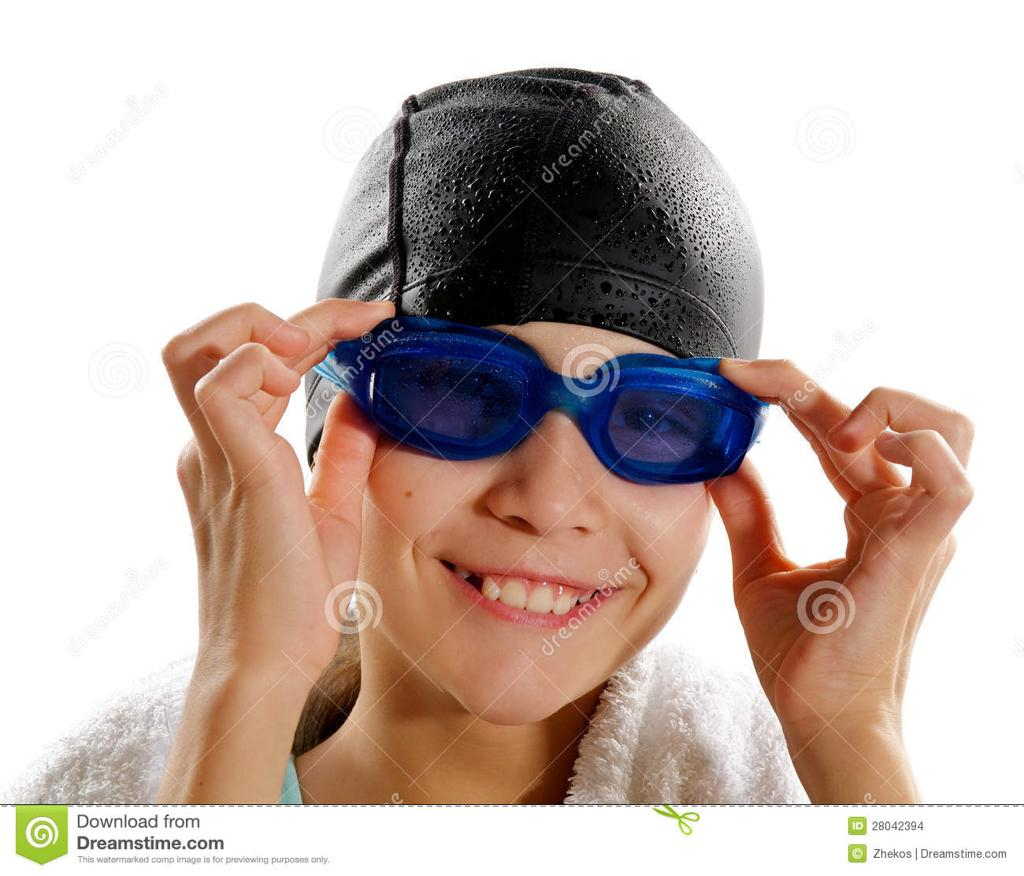face: (362, 238, 712, 722)
